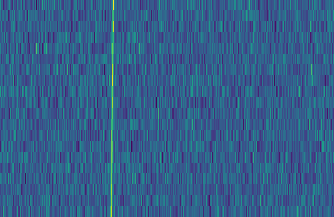signal: (104, 0, 115, 217)
